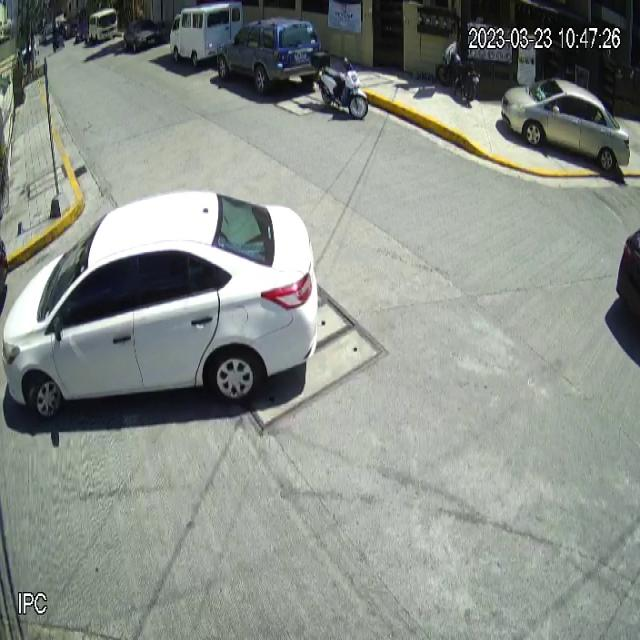Car: (0, 189, 319, 427), (500, 78, 630, 174), (218, 17, 324, 99)
Motorcycle: (312, 48, 369, 120)
Van: (170, 1, 245, 67)
